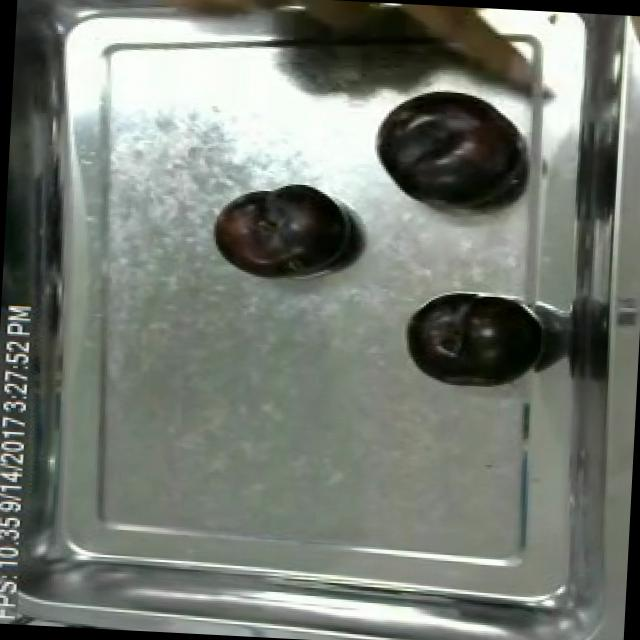Fruit: (368, 82, 530, 218), (202, 176, 360, 292), (396, 288, 547, 394), (619, 15, 640, 65)
